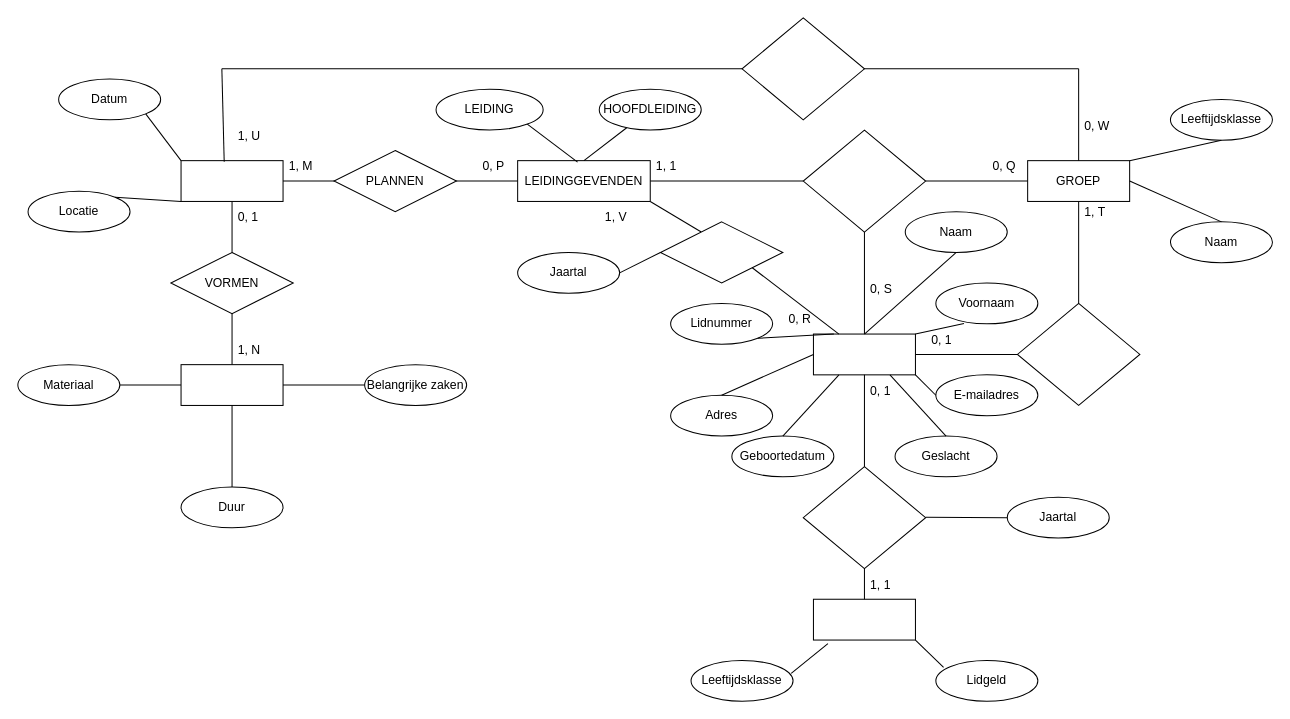
This 1290x719 diagram has some shape labels left out. The shapes that lost their labels are listed below. From the top down, each one's centre as x and y in pixels, then its label:
At (802,68): "NEMEN DEEL AAN".
At (231,180): "ACTIVITEITEN".
At (864,180): "WORD GELEID DOOR".
At (721,252): "KAN WORDEN".
At (863,354): "LID".
At (1078,353): "WORD DEEL VAN".
At (231,384): "LIJST".
At (864,517): "DEELT NEEM VIA".
At (863,619): "INSCHRIJVING".
